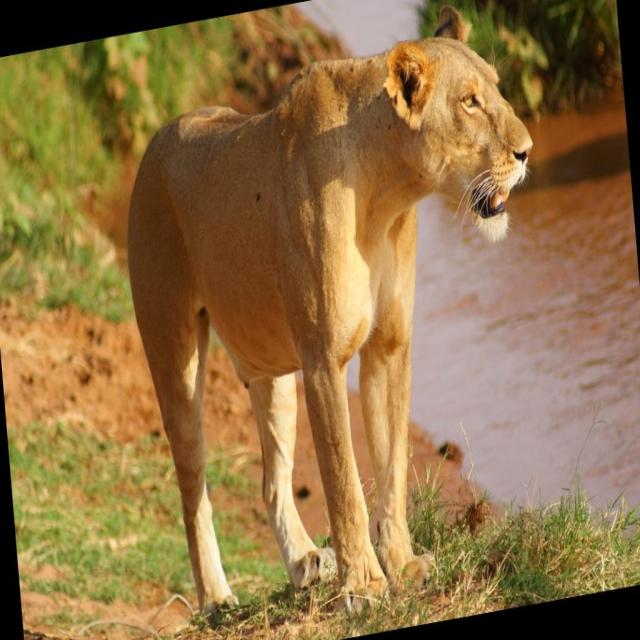Lion: (112, 0, 568, 639)
